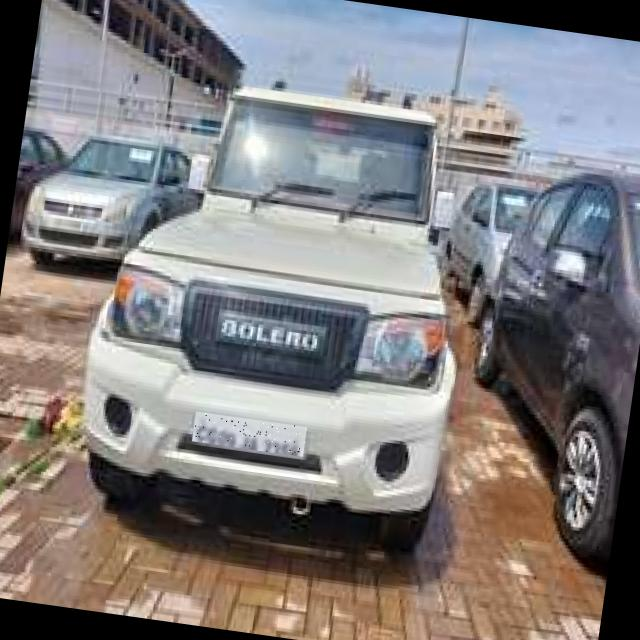Plate: (193, 413, 308, 458)
